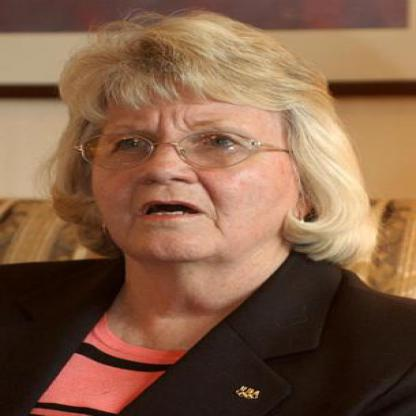face: (78, 51, 306, 269)
